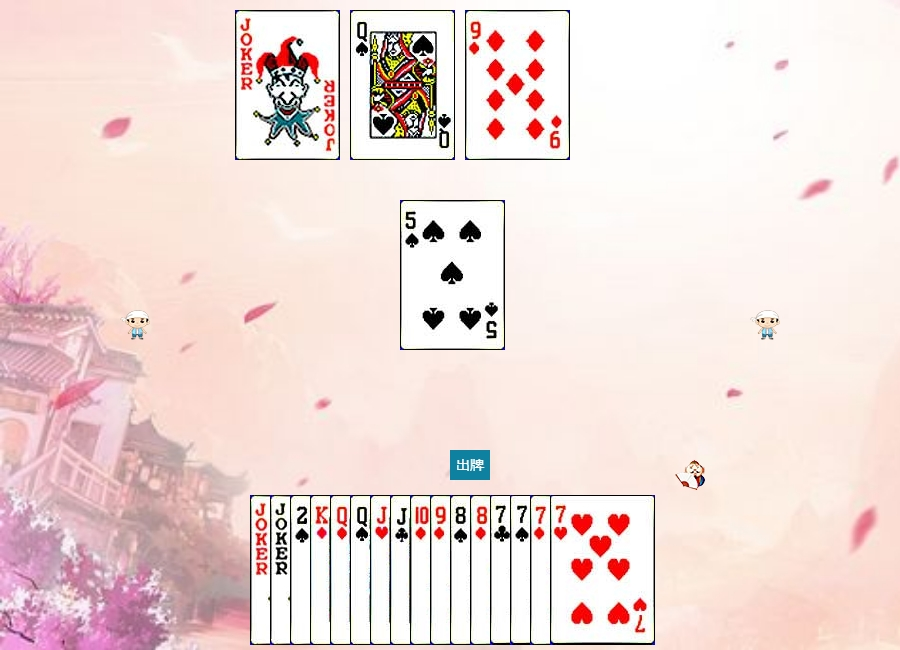10~1: (410, 495, 515, 645)
11~2: (390, 495, 495, 645)
11~3: (370, 495, 475, 645)
12~1: (330, 495, 435, 645)
12~4: (350, 10, 455, 160), (350, 495, 455, 645)
13~1: (310, 495, 415, 645)
15~4: (290, 495, 395, 645)
17~3: (270, 495, 375, 645)
18~4: (235, 10, 340, 160), (250, 495, 355, 645)
5~4: (400, 200, 505, 350)
7~1: (530, 495, 635, 645)
7~2: (490, 495, 595, 645)
7~3: (550, 495, 655, 645)
7~4: (510, 495, 615, 645)
8~1: (470, 495, 575, 645)
8~4: (450, 495, 555, 645)
9~1: (465, 10, 570, 160), (430, 495, 535, 645)
